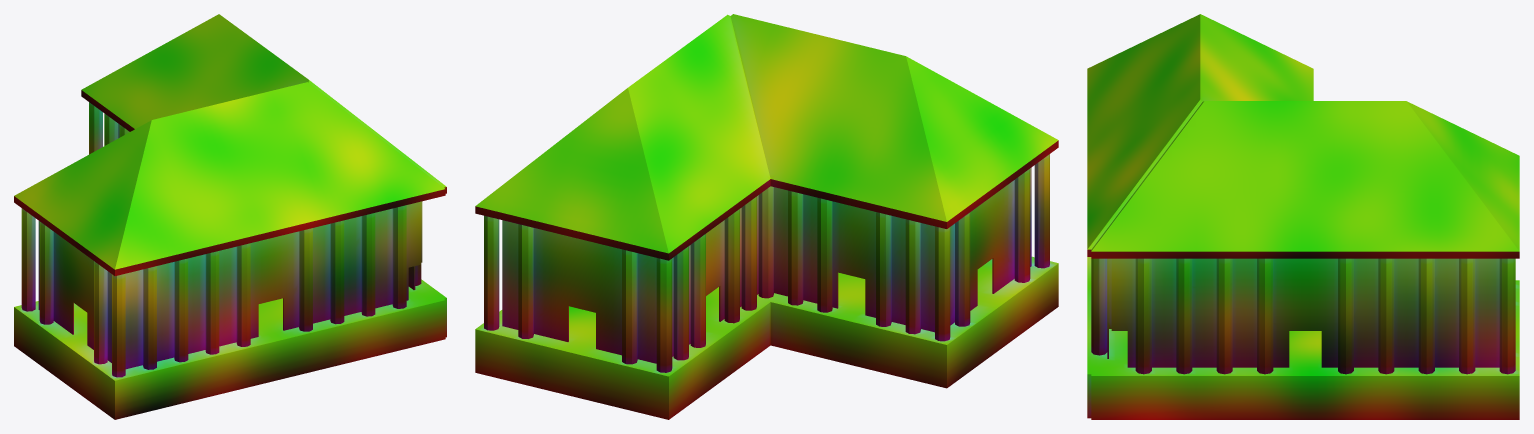
File: MS_BuildingLarge_02.fbx
3 renders of one model, left to right at view 1: azimuth 30°, elevation 25°; view 2: azimuth 150°, elevation 25°; view 3: azimuth 270°, elevation 25°, orthographic. The views are drawn at different scales.
Visible parts, largest first — view 1: MS_BuildingLarge_02; view 2: MS_BuildingLarge_02; view 3: MS_BuildingLarge_02.
Boxes of the visible parts, x1,y1,x2,y2 form: MS_BuildingLarge_02: [14, 14, 446, 419]; MS_BuildingLarge_02: [475, 14, 1058, 419]; MS_BuildingLarge_02: [1087, 14, 1519, 419].
Bounding box in the file's own units: 5350 × 3700 × 5350.
